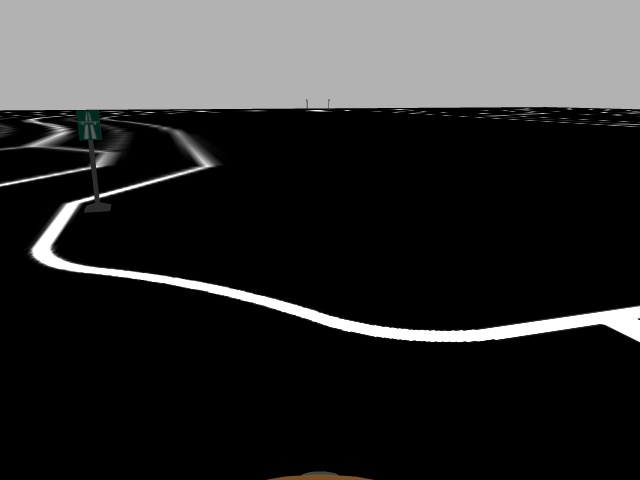enter_highway: (74, 109, 102, 141)
